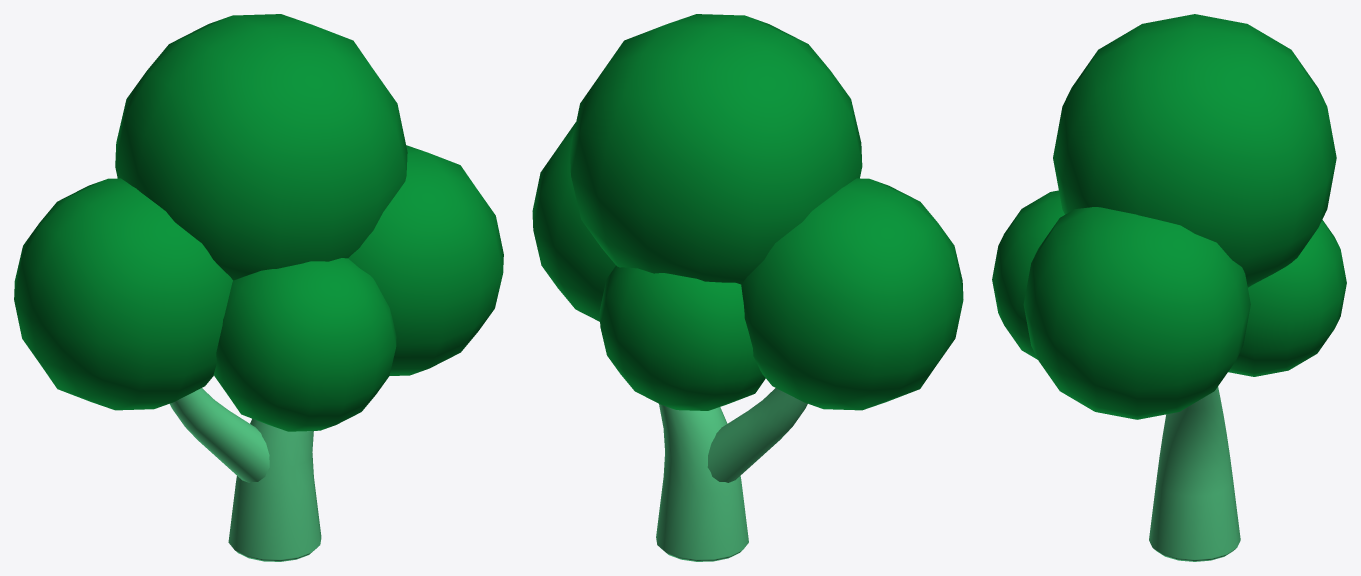
Rendered from Farm_17_Broccoli_1.glb.
3 views of the same model, side by side, from view 1: azimuth 30°, elevation 25°; view 2: azimuth 150°, elevation 25°; view 3: azimuth 270°, elevation 25° (orthographic). The views are drawn at different scales.
Visible parts, largest first — view 1: Farm_17_Broccoli_1; view 2: Farm_17_Broccoli_1; view 3: Farm_17_Broccoli_1.
Boxes of the visible parts, box(x1,y1,x2,y2) form: Farm_17_Broccoli_1: box(14, 14, 503, 561); Farm_17_Broccoli_1: box(532, 14, 963, 561); Farm_17_Broccoli_1: box(992, 14, 1346, 561).
Size of the model in its own units: 0.4998 by 0.5804 by 0.3672.
Materials: 1 (1 with a texture image).
